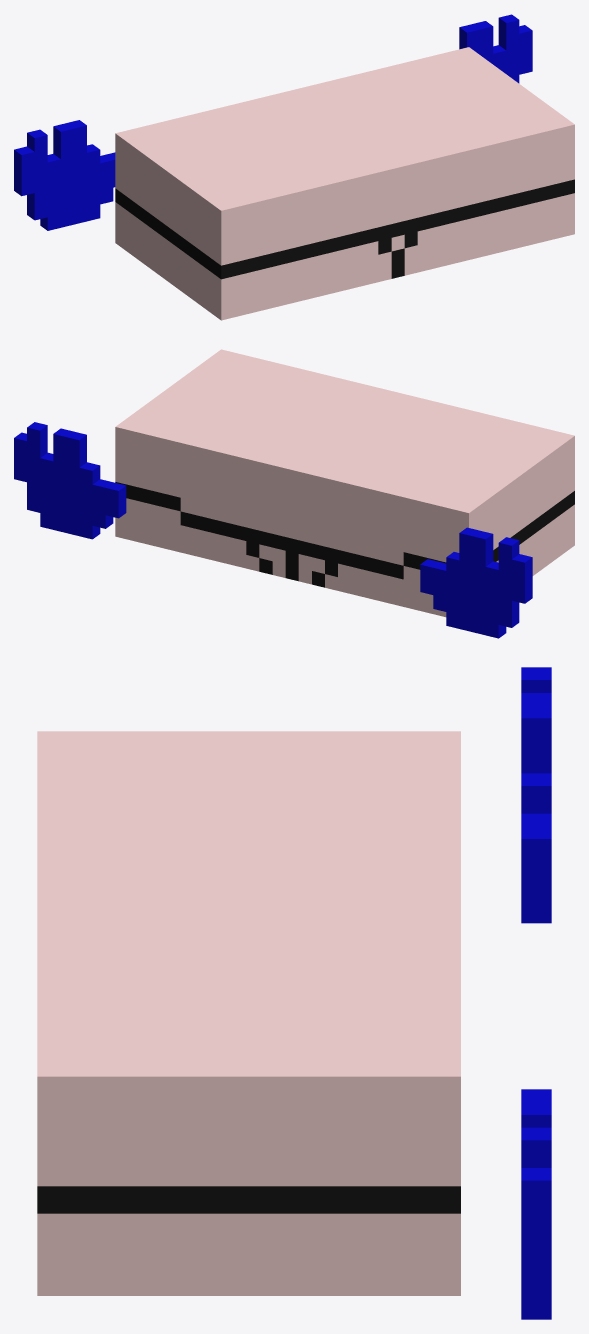
The model's file is Tofu_Squashed.FBX.
The picture shows the model from 3 angles, top to bottom: view 1: azimuth 30°, elevation 25°; view 2: azimuth 150°, elevation 25°; view 3: azimuth 270°, elevation 25°; orthographic projection. The views are drawn at different scales.
Parts seen in each view (by area): view 1: default; view 2: default; view 3: default.
Part boxes in pixels (x1,y1,x2,y2): default: (14,14,574,320); default: (14,349,574,638); default: (37,667,551,1319).
Bounding box in the file's own units: 3.9 × 0.8 × 1.7.
1 material, 1 textured.
